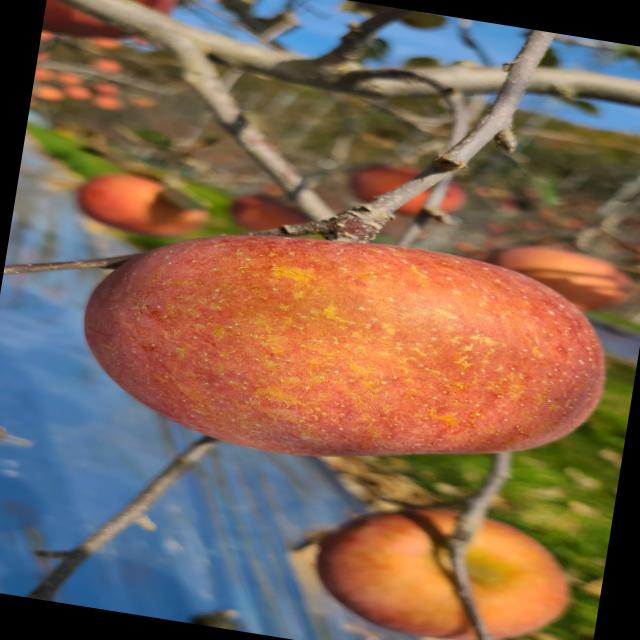fresh: (48, 187, 634, 511)
